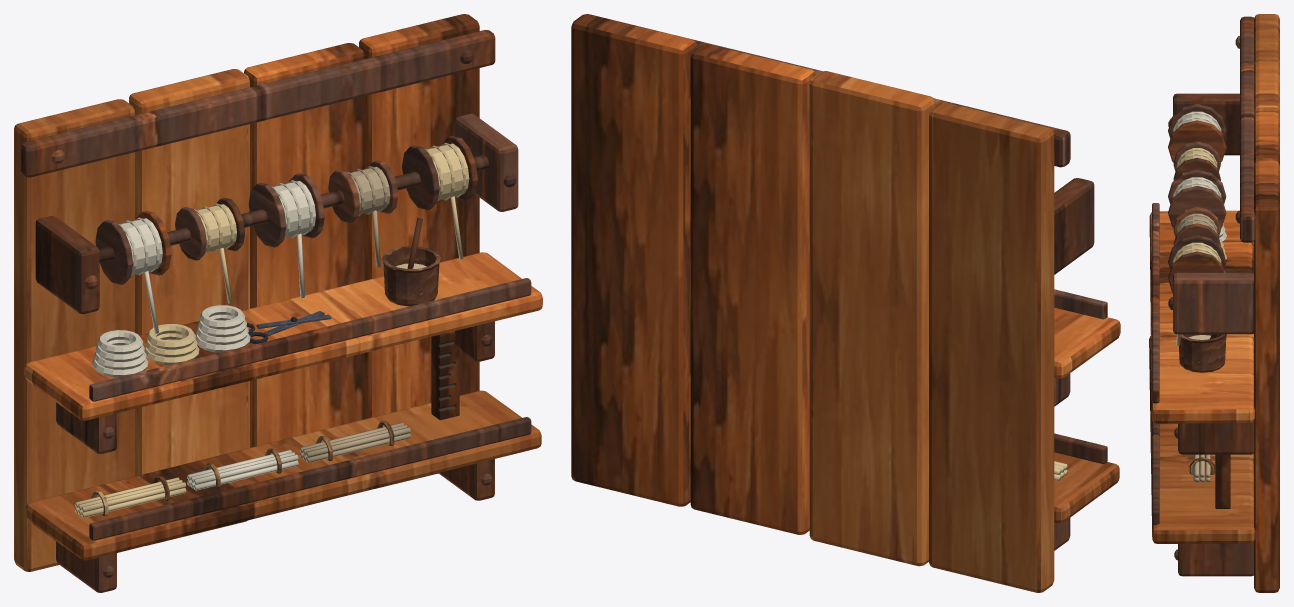
The model's file is lw_wick_spool_shelf.glb.
The picture shows the model from 3 angles, left to right: view 1: azimuth 30°, elevation 25°; view 2: azimuth 150°, elevation 25°; view 3: azimuth 270°, elevation 25°; orthographic projection. The views are drawn at different scales.
Parts seen in each view (by area): view 1: model; view 2: model; view 3: model.
Boxes of the visible parts, x1,y1,x2,y2 form: model: [14, 14, 542, 592]; model: [571, 14, 1120, 592]; model: [1149, 14, 1279, 592].
Bounding box in the file's own units: 0.92 × 0.8349 × 0.253.
15 materials, 10 textured.
